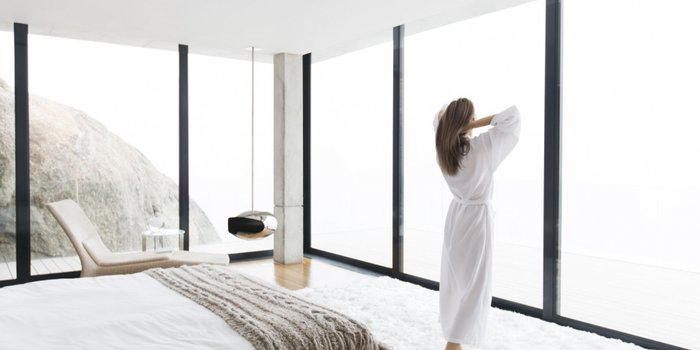bed: (3, 257, 388, 350)
